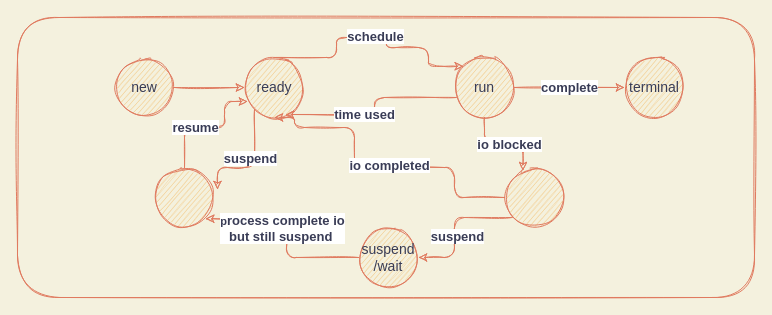
The diagram is 772 pixels wide and 315 high, and some of its shapes have lost their labels. The shapes that lost their labels are listed below. From the top down, each one's centre as x and y in pixels, then its label:
At (184,197): "suspend /ready".
At (534,197): "wait/ block".
